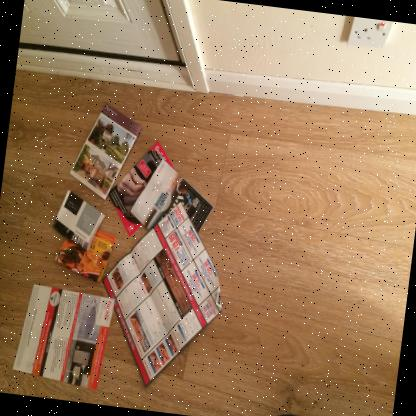Magazine paper: (101, 201, 222, 387), (12, 284, 114, 391), (69, 102, 141, 199), (108, 140, 176, 237), (130, 158, 213, 233), (54, 229, 116, 282), (52, 190, 105, 251)
